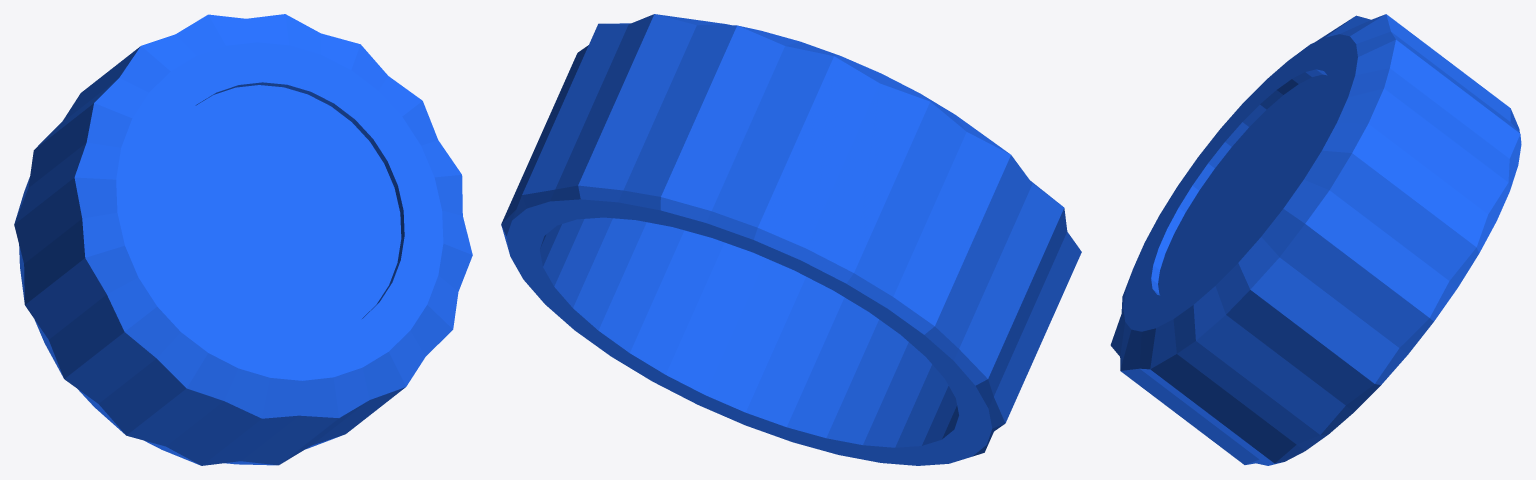
Rendered from bottle_token.fbx.
3 views of the same model, side by side, from view 1: azimuth 30°, elevation 25°; view 2: azimuth 150°, elevation 25°; view 3: azimuth 270°, elevation 25° (orthographic). The views are drawn at different scales.
Visible parts, largest first — view 1: node_id3; view 2: node_id3; view 3: node_id3.
Boxes of the visible parts, box(x1,y1,x2,y2) form: node_id3: box(14, 14, 472, 465); node_id3: box(501, 14, 1081, 465); node_id3: box(1110, 14, 1521, 465).
Bounding box in the file's own units: 0.5119 × 0.5124 × 0.4725.
1 material, 1 textured.
